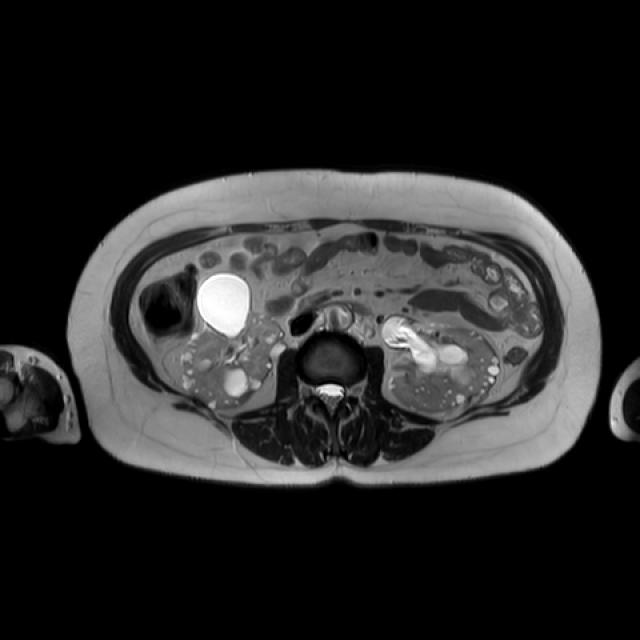sag: (178, 274, 288, 412)
sol: (387, 328, 499, 413)
